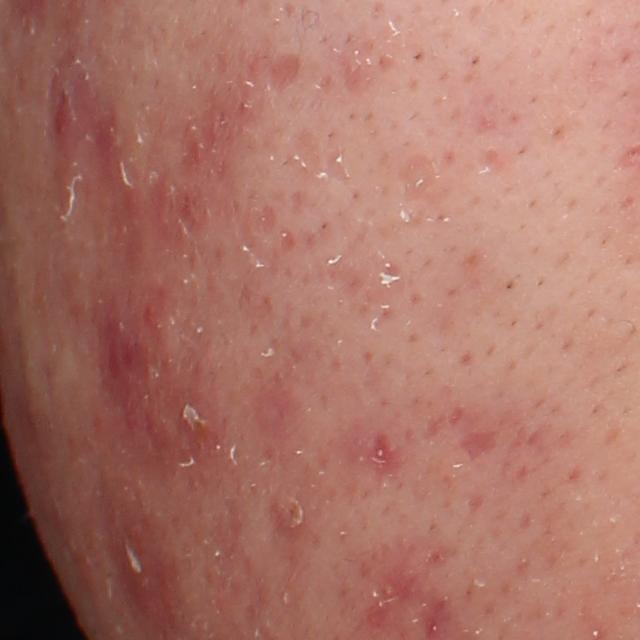atrophic_scar: (396, 152, 438, 207), (454, 427, 503, 471), (271, 52, 299, 97)
